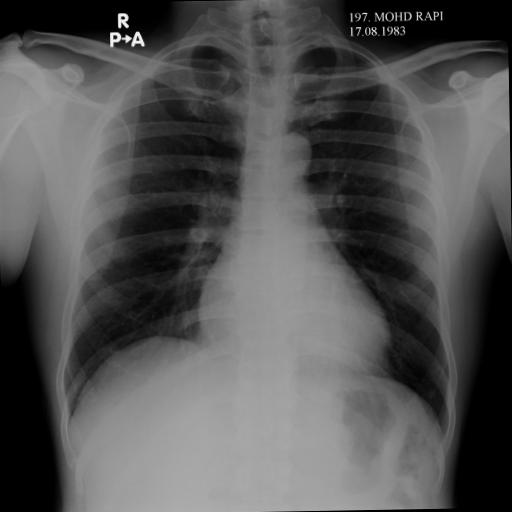kardiomegali: (48, 20, 458, 445)
